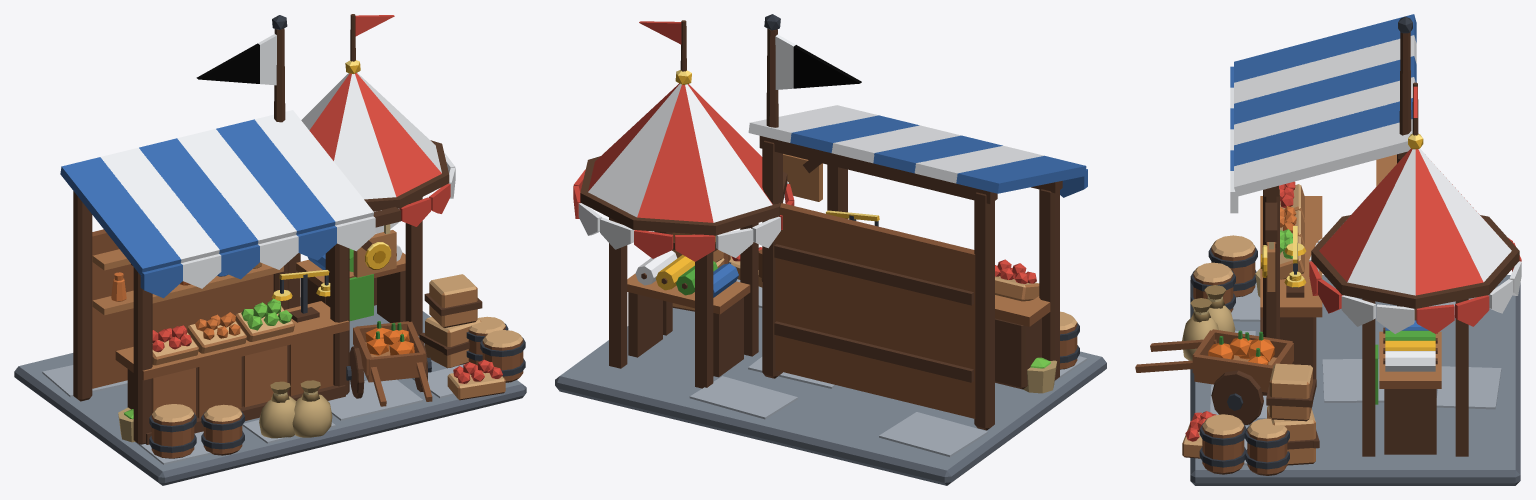
File: Bld_Market_L2.fbx
3 renders of one model, left to right at view 1: azimuth 30°, elevation 25°; view 2: azimuth 150°, elevation 25°; view 3: azimuth 270°, elevation 25°, orthographic. The views are drawn at different scales.
Visible parts, largest first — view 1: Bld_Market_L2; view 2: Bld_Market_L2; view 3: Bld_Market_L2.
Boxes of the visible parts, left/top/right/bottom form: Bld_Market_L2: left=14, top=14, right=526, bottom=485; Bld_Market_L2: left=555, top=14, right=1106, bottom=485; Bld_Market_L2: left=1135, top=14, right=1521, bottom=485.
Size of the model in its own units: 4.49 by 3.91 by 3.52.
